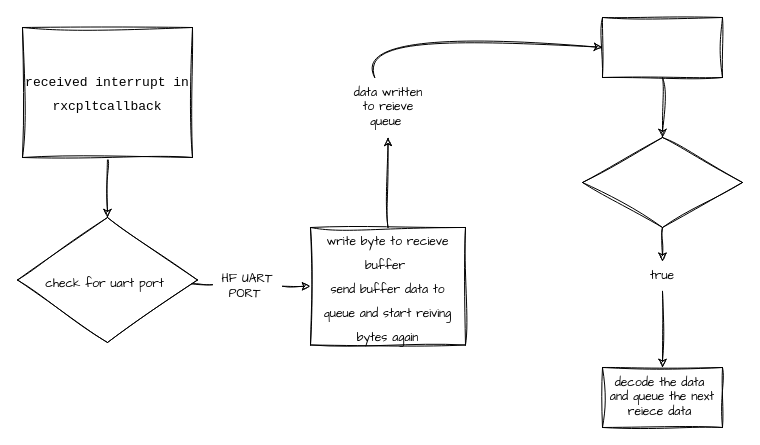
This 760x445 diagram has some shape labels left out. Here are the shapes that lost their labels. From the top down, the centre of each, then its label:
the point at 662,47: serial HF recieve com thread
the point at 662,182: check q reieved the data
